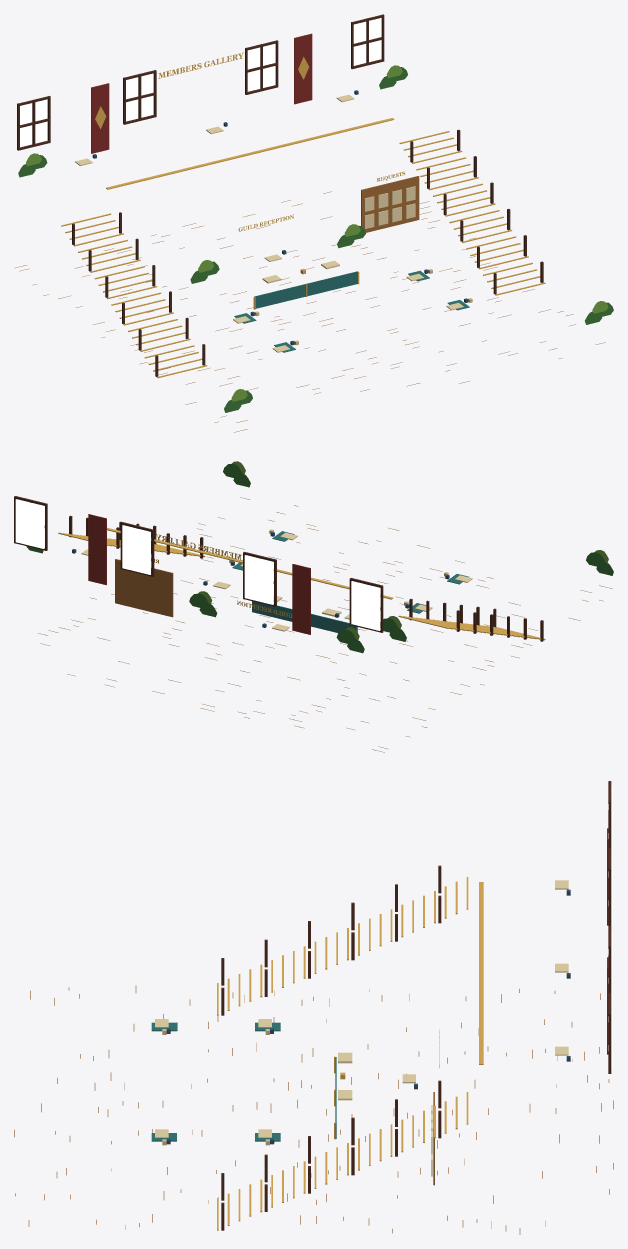
The model's file is SM_Guild_Details.fbx.
3 renders of one model, top to bottom at view 1: azimuth 30°, elevation 25°; view 2: azimuth 150°, elevation 25°; view 3: azimuth 270°, elevation 25°, orthographic. The views are drawn at different scales.
Visible parts, largest first — view 1: QuestCork_1, CounterInlay_1, HangingBanner_1.001, HangingBanner_1, WarmWindow_1.002, WarmWindow_1.003, WarmWindow_1.001, WarmWindow_1, GalleryRailGold_5; view 2: QuestCork_3, HangingBanner_3, HangingBanner_3.001, WarmWindow_3.001, WarmWindow_3.002, WarmWindow_3, WarmWindow_3.003, CounterInlay_3, GalleryRailGold_5; view 3: GalleryRailGold_5.
Boxes of the visible parts, bbox=[...] form: QuestCork_1: bbox=[361, 176, 419, 232]; CounterInlay_1: bbox=[255, 272, 357, 308]; HangingBanner_1.001: bbox=[294, 34, 312, 104]; HangingBanner_1: bbox=[91, 83, 109, 153]; WarmWindow_1.002: bbox=[247, 44, 275, 91]; WarmWindow_1.003: bbox=[353, 18, 381, 65]; WarmWindow_1.001: bbox=[126, 73, 153, 121]; WarmWindow_1: bbox=[20, 99, 47, 147]; GalleryRailGold_5: bbox=[106, 118, 393, 188]; QuestCork_3: bbox=[115, 559, 172, 617]; HangingBanner_3: bbox=[292, 564, 310, 634]; HangingBanner_3.001: bbox=[88, 514, 106, 584]; WarmWindow_3.001: bbox=[244, 555, 272, 604]; WarmWindow_3.002: bbox=[122, 525, 150, 574]; WarmWindow_3: bbox=[351, 581, 379, 630]; WarmWindow_3.003: bbox=[15, 499, 43, 548]; CounterInlay_3: bbox=[252, 601, 356, 632]; GalleryRailGold_5: bbox=[107, 527, 392, 598]; GalleryRailGold_5: bbox=[479, 882, 483, 1063].
Bounding box in the file's own units: 1740 × 1769 × 696.
